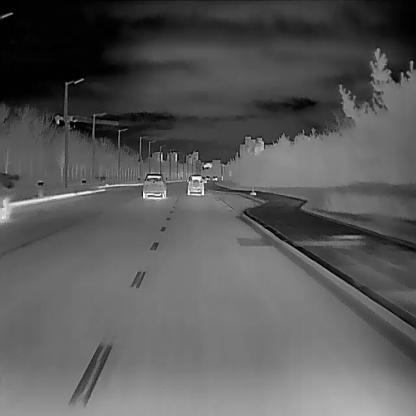car: (0, 170, 18, 223), (142, 172, 166, 198), (187, 174, 204, 195), (201, 175, 206, 184), (212, 176, 217, 180), (206, 176, 210, 180)
